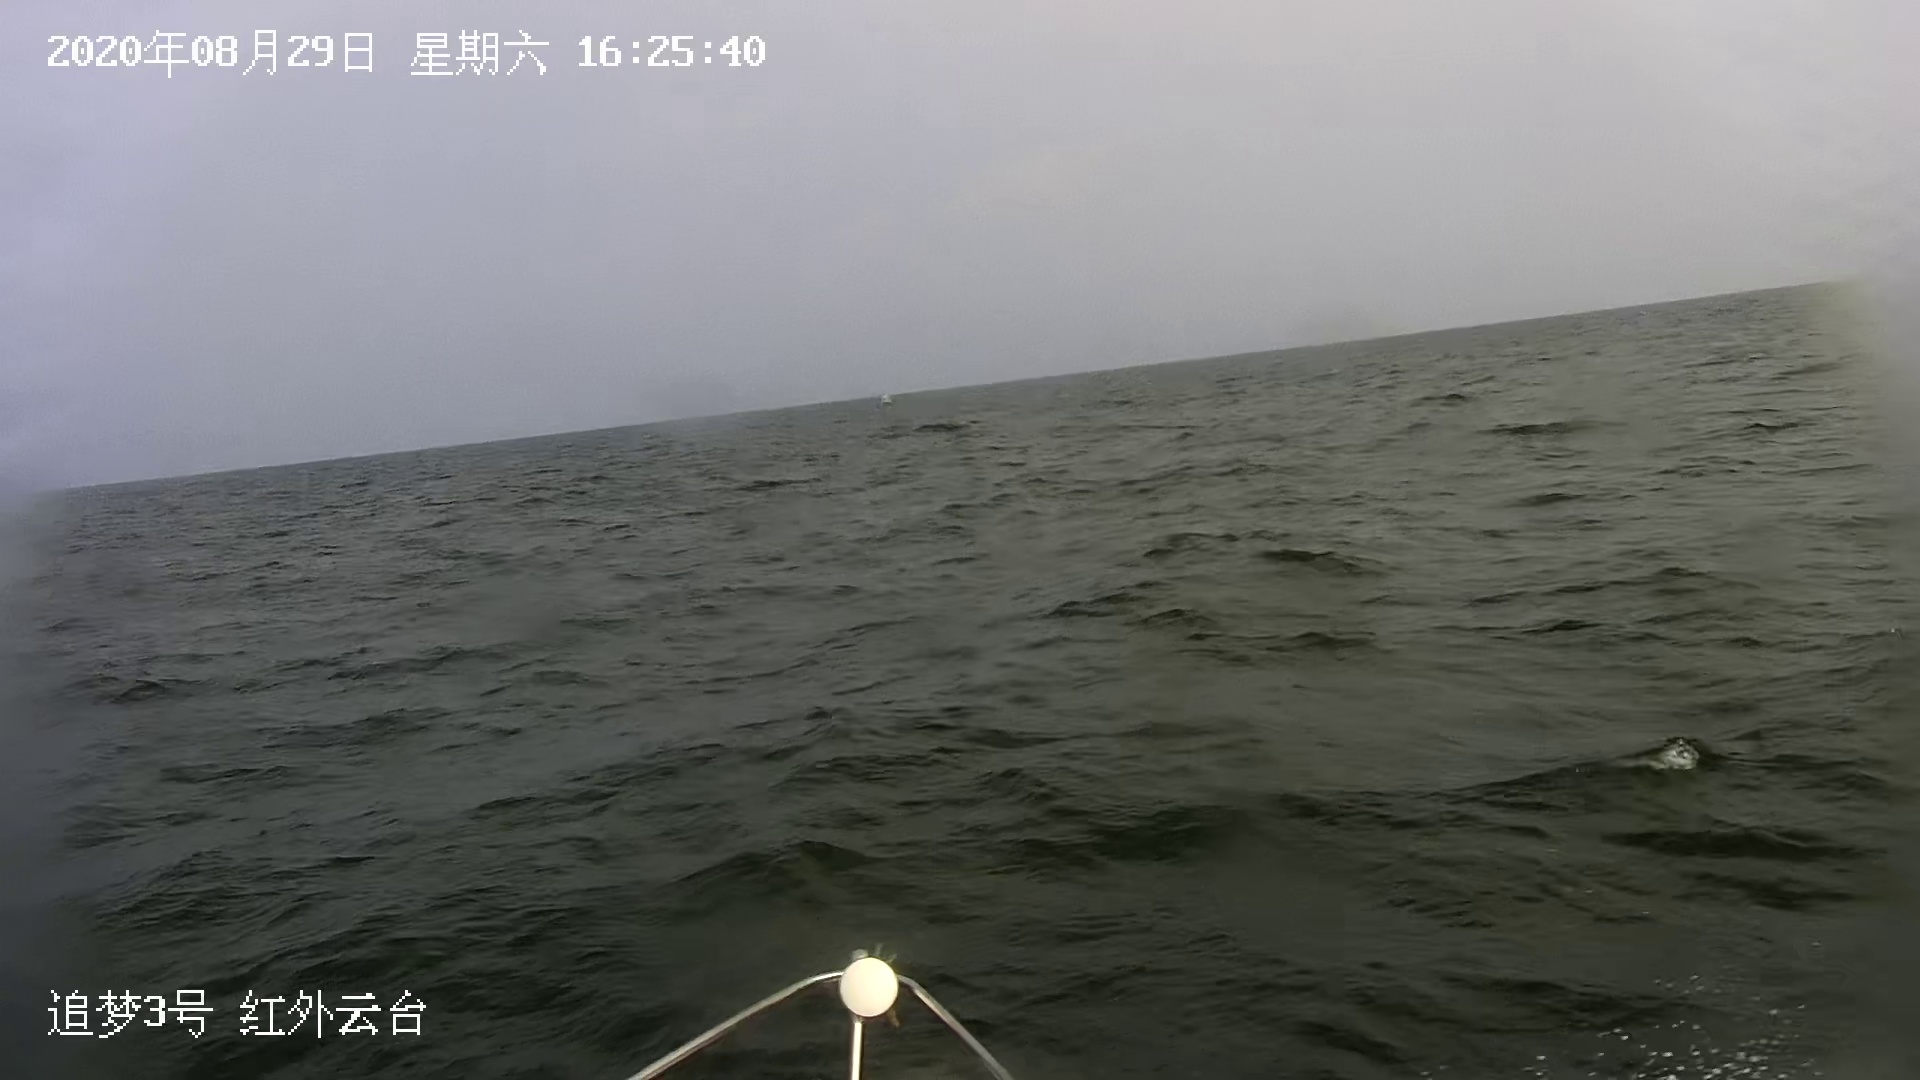barrier: (874, 390, 897, 409)
